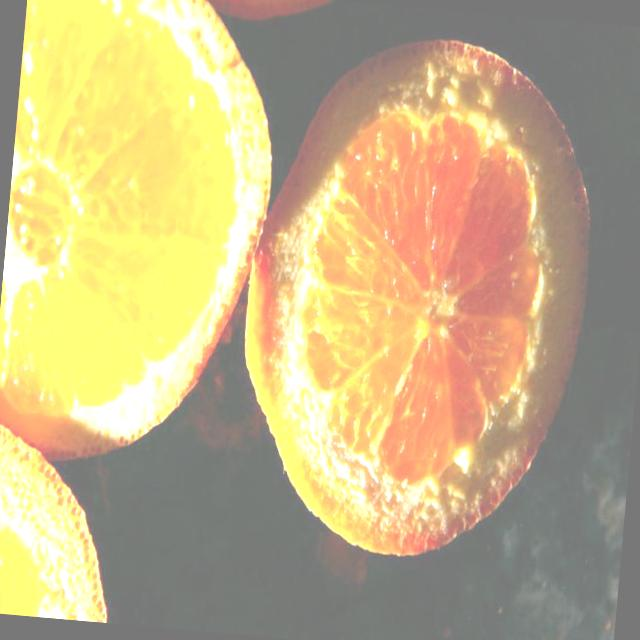Orange: (225, 24, 607, 573), (0, 0, 287, 478), (0, 419, 122, 622)
